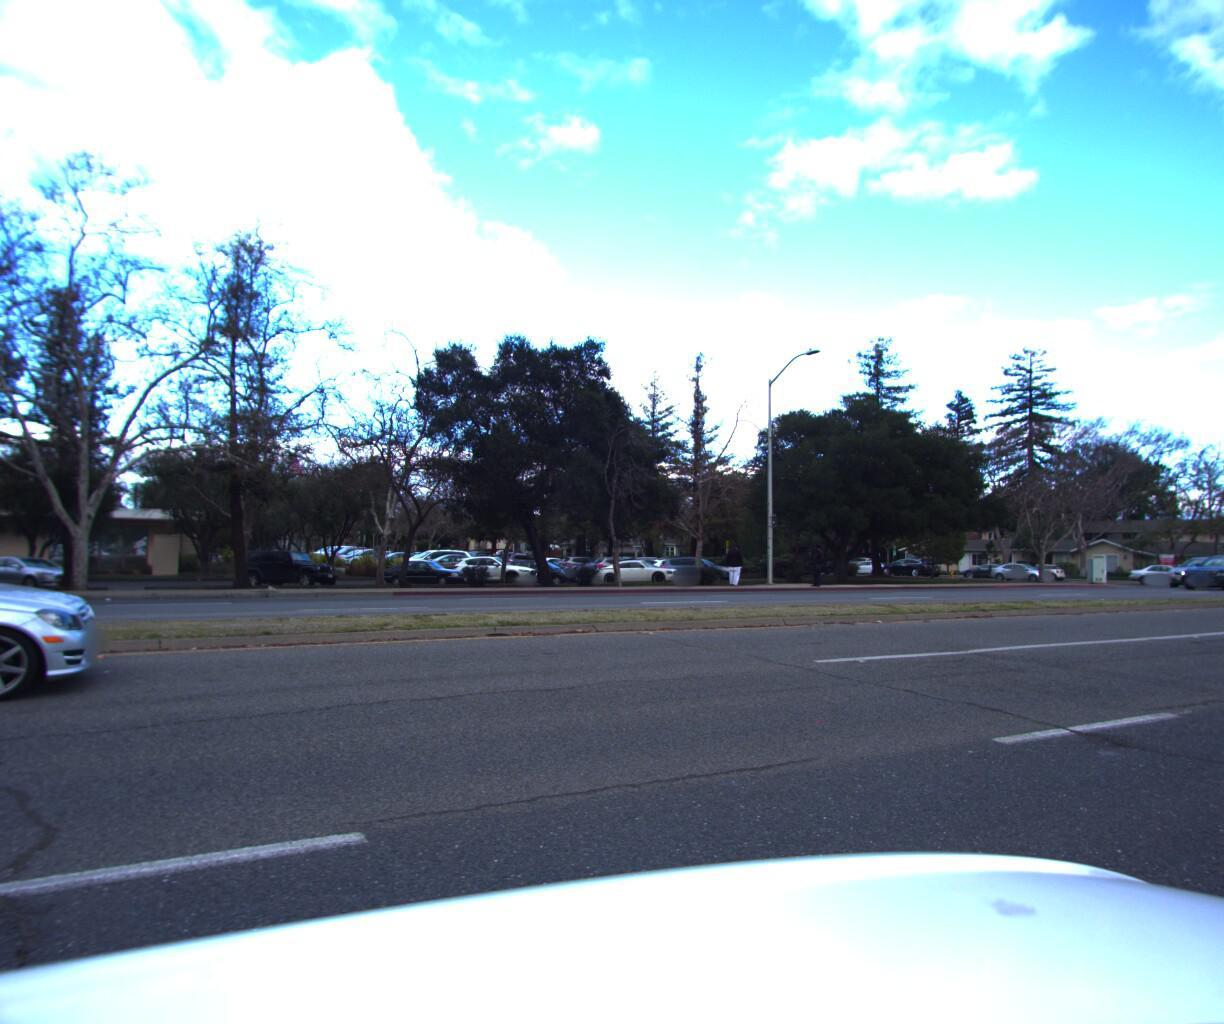car: (1155, 545, 1224, 586), (1170, 550, 1224, 591), (1122, 555, 1206, 581), (982, 555, 1053, 579), (1007, 557, 1070, 578), (894, 556, 951, 576), (956, 557, 1014, 576), (845, 553, 895, 571)
